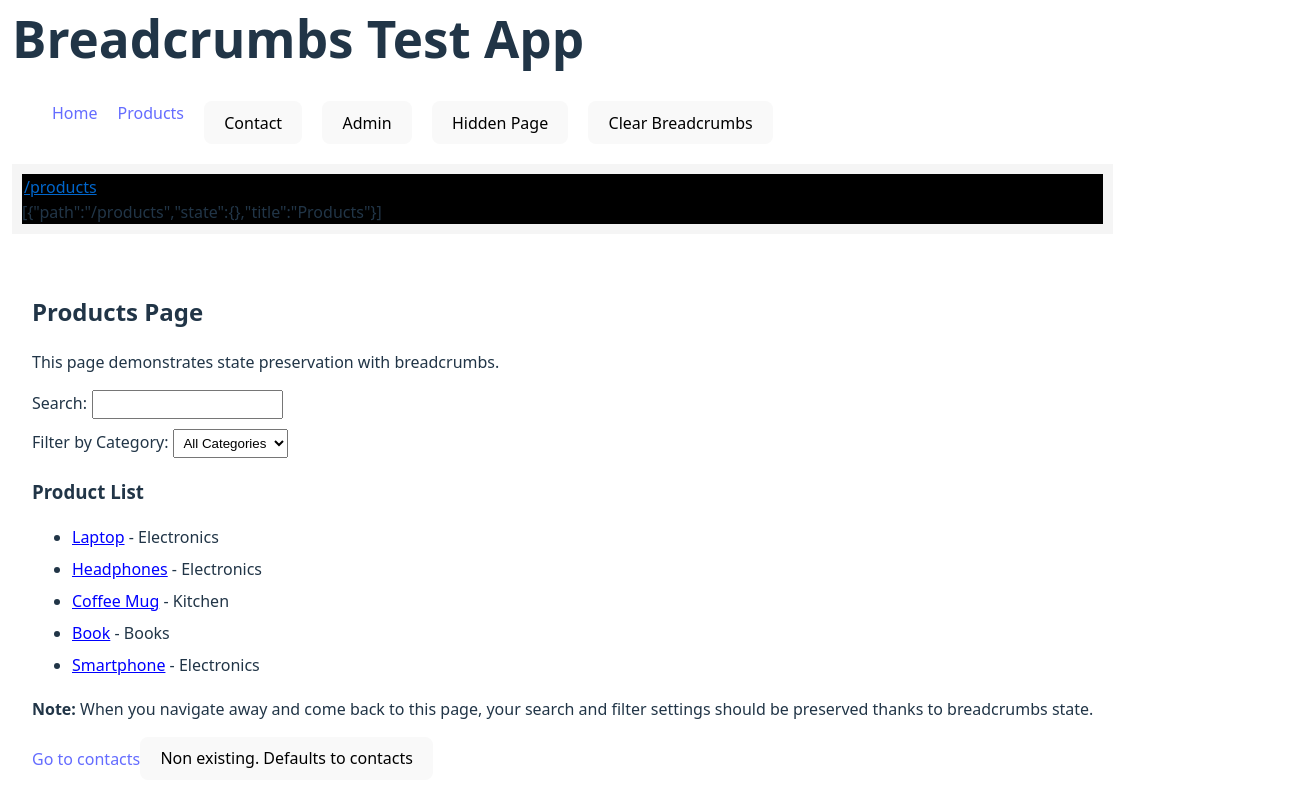
Test: #goToBreadcrumb() › Going to non existing index should return `false`
(page scrolled)
Step 1. Click the button with test id "go-non-existing" → coordinates (287, 758), box [140,737,433,780]
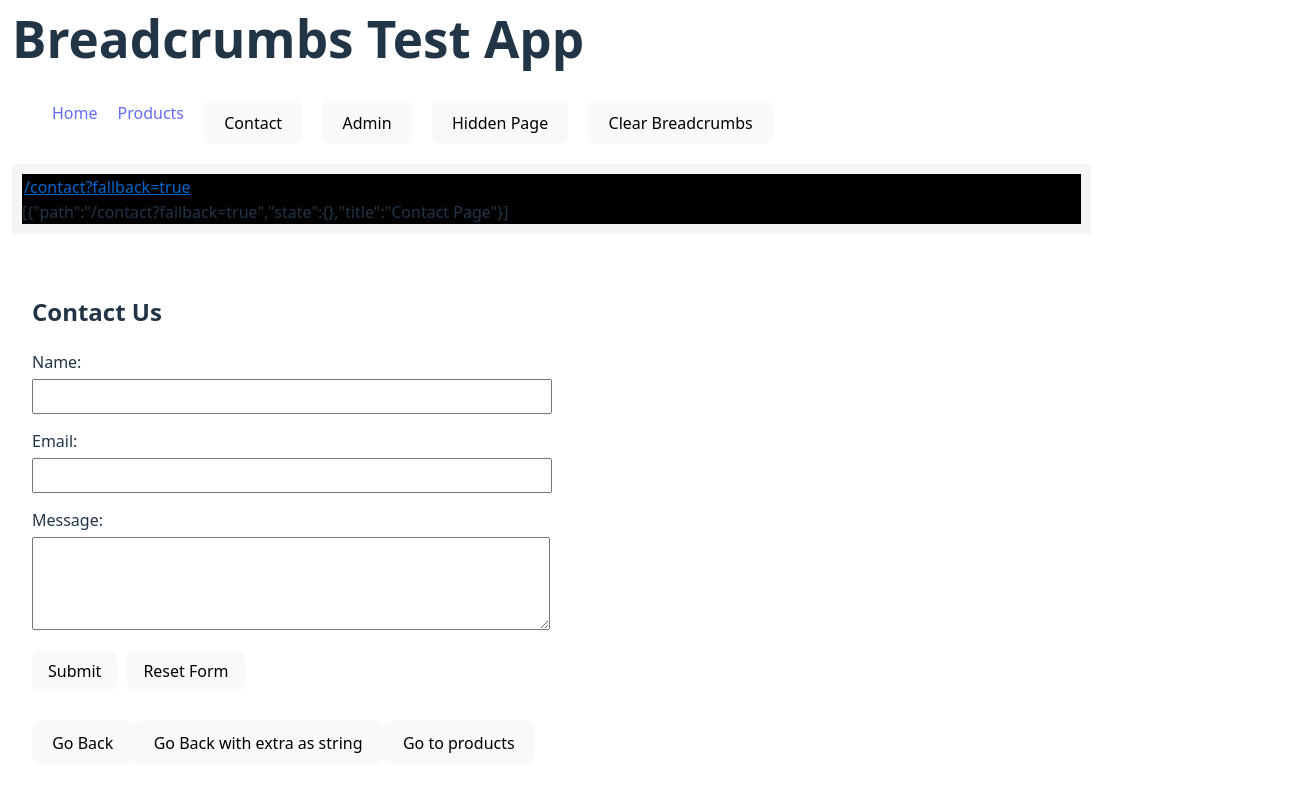
Result: the button "/contact?fallback=true" is shown at [22,174,193,200]
